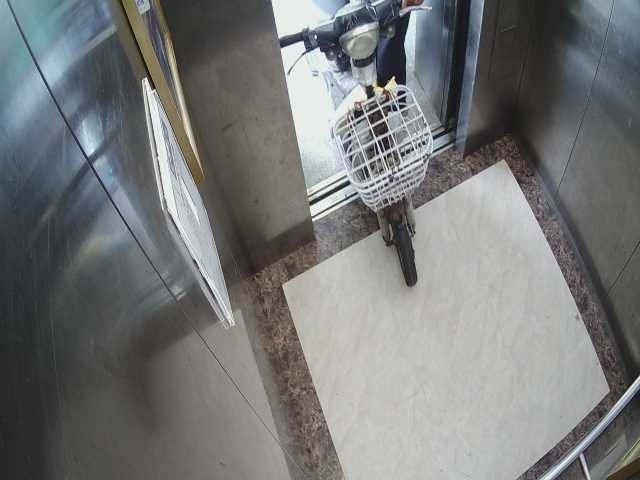emotor: (273, 3, 454, 289)
